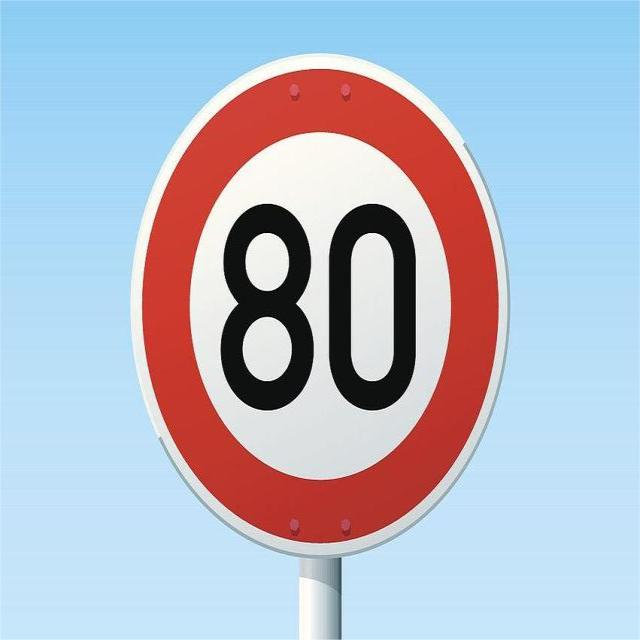speed limit 80: (130, 54, 510, 558)
